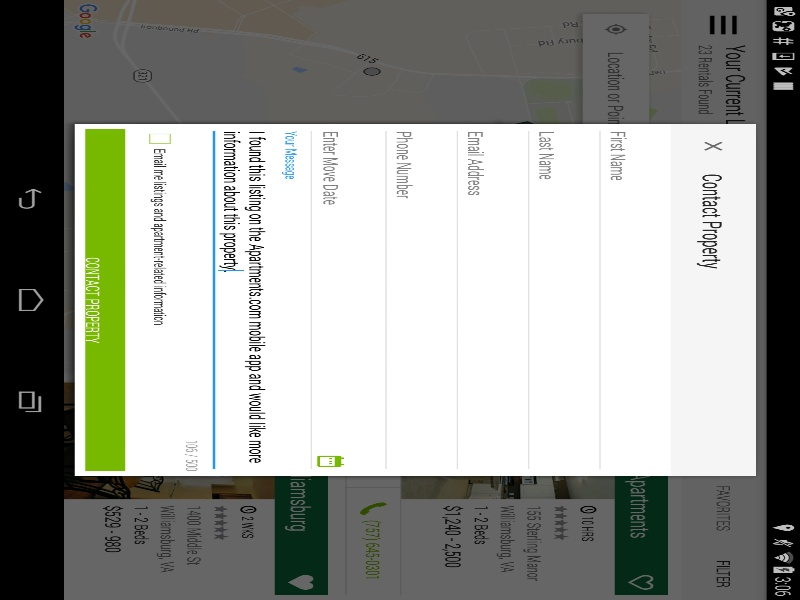Button: (274, 20, 349, 60)
